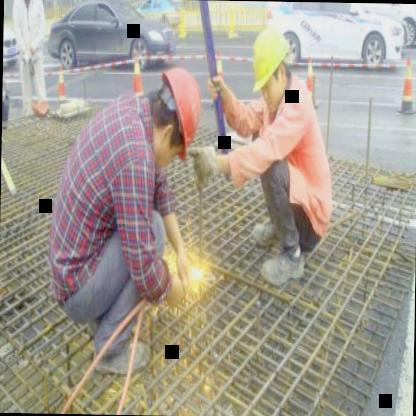helmet: (144, 61, 204, 157), (245, 20, 302, 116)
